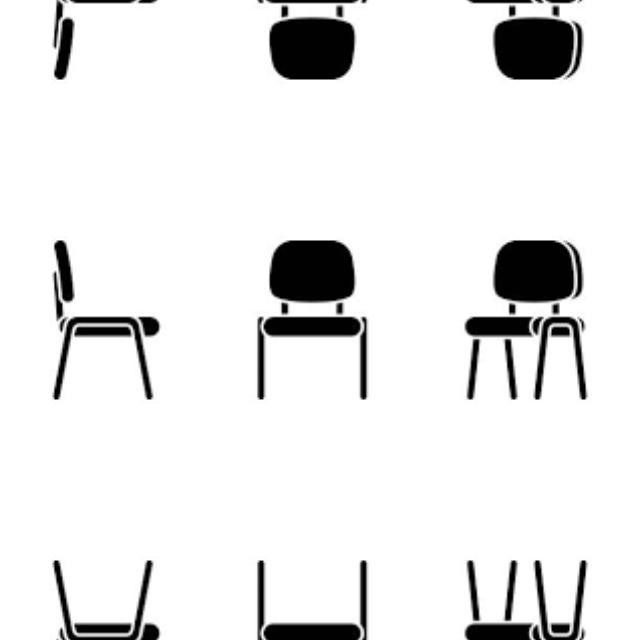obstacle: (33, 219, 217, 436), (33, 523, 217, 640), (33, 0, 217, 100)
